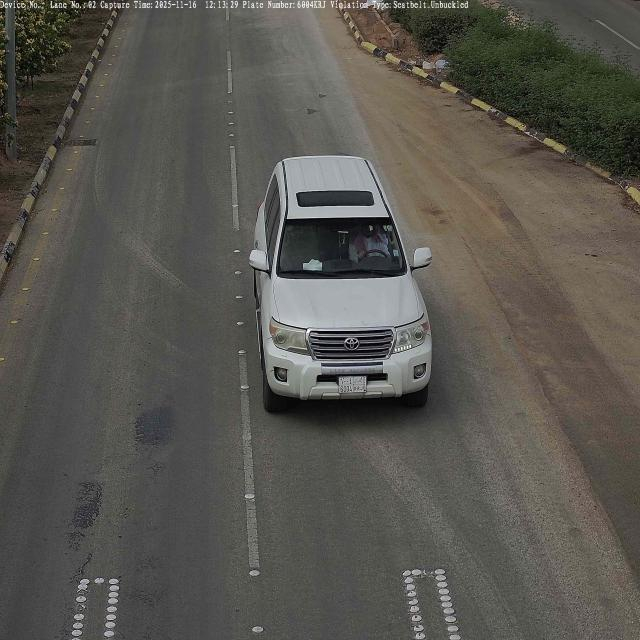person_without_seatbelt: (348, 218, 392, 267)
